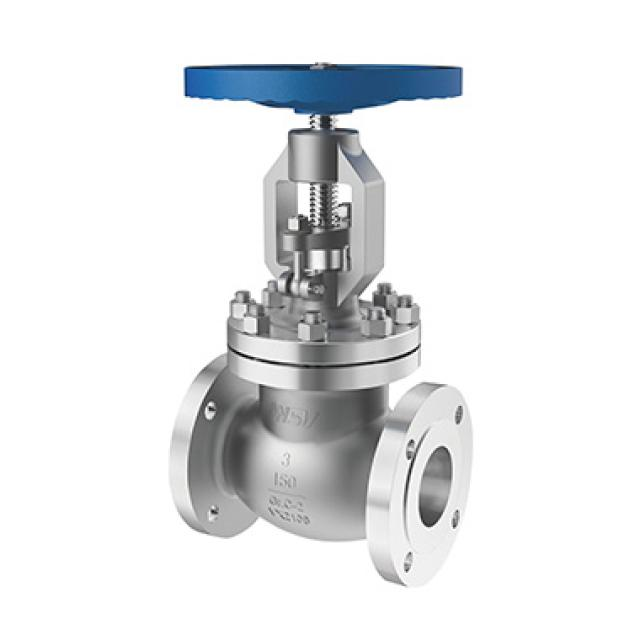Wheel Handle Valve Threaded: (155, 42, 488, 133)
